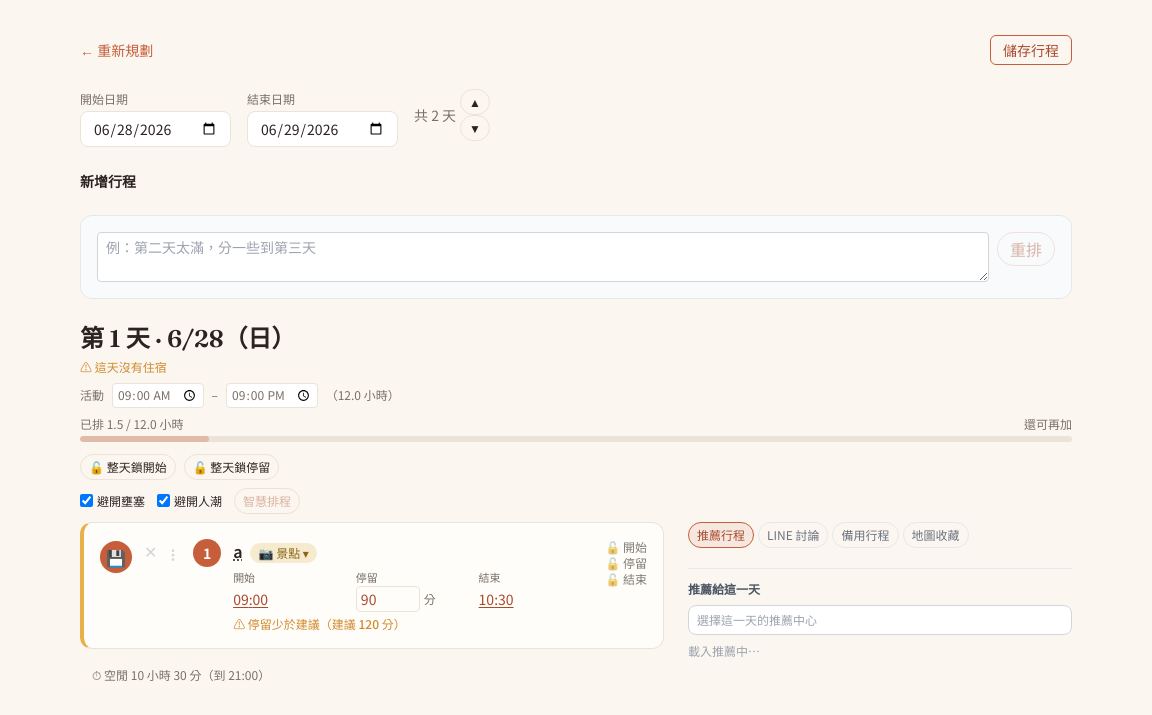
Scenario: delete removes the over-count day
Type "2026-06-28" into the date field with test id "trip-end-date" at (322,129), box 247,111 -> 398,147
(page scrolled)
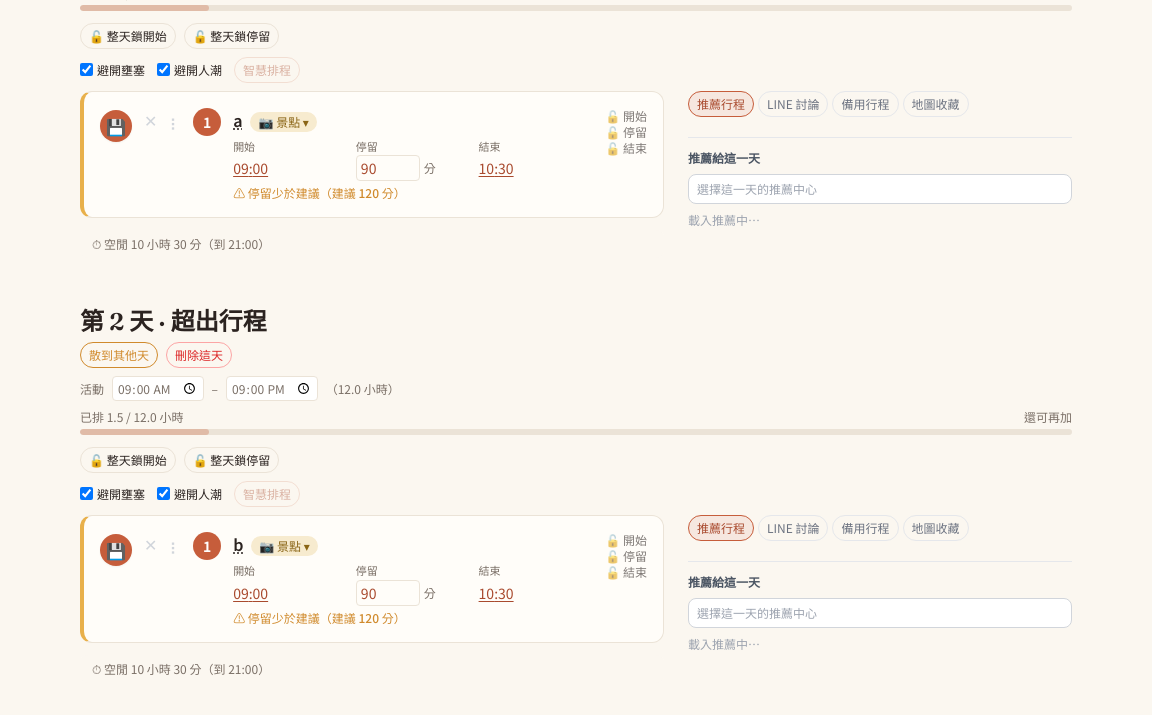
Click the button "刪除這天" at (199,355), box 166,342 -> 232,368
(page scrolled)
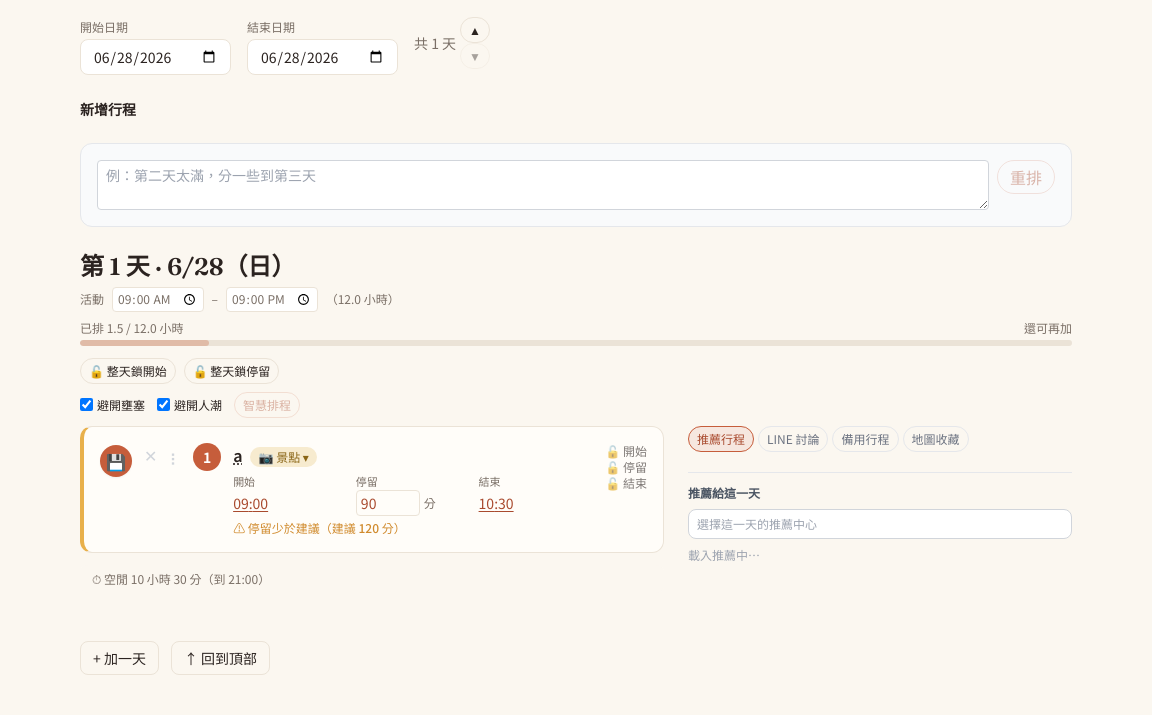
Expected: the link "b" is gone
